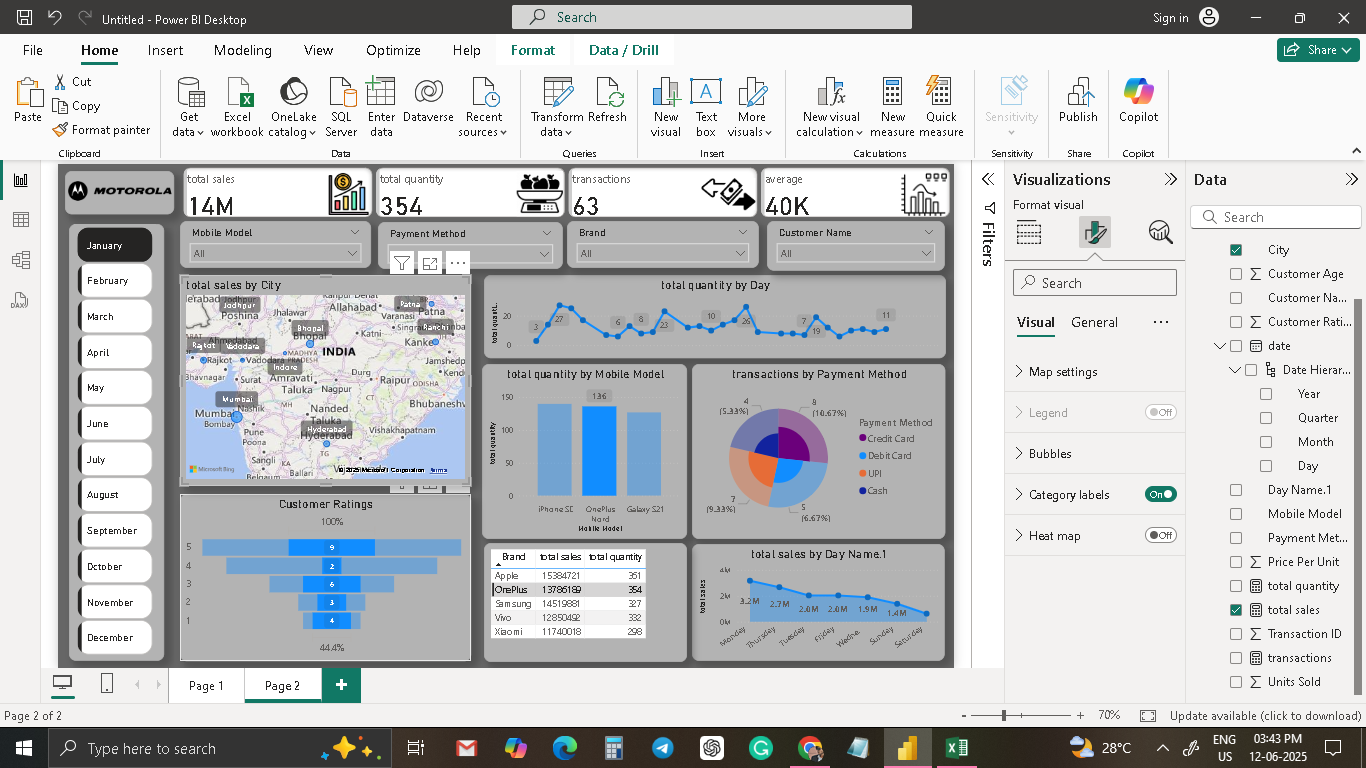

The page's visual inventory and layout, read from the dashboard file:
{"tool":"powerbi","page":{"name":"Page 2","canvas":[1280,720],"ordinal":0},"visuals":[{"type":"shape","box":[10,10,155.9,62.4],"z":0},{"type":"image","box":[2.4,10,171.2,57.1],"z":1000},{"type":"shape","box":[15.7,85.7,135.7,624.3],"z":2000},{"type":"advancedSlicerVisual","fields":{"Values":["sales data.date.Variation.Date Hierarchy.Month"]},"box":[22.9,85.7,117.1,620],"z":3000},{"type":"cardVisual","fields":{"Data":["sales data.total sales","sales data.total quantity","sales data.transaction","sales data.average"]},"box":[172.9,9.9,1106.9,137.5],"z":4000},{"type":"map","fields":{"Category":["sales data.City"],"Size":["sales data.total sales"]},"box":[174.3,158.6,415.7,301.4],"z":5000},{"type":"lineChart","fields":{"Y":["sales data.total quantity"],"Category":["sales data.date.Variation.Date Hierarchy.Month","sales data.date.Variation.Date Hierarchy.Day"]},"box":[608.6,158.6,660,118.6],"z":6000},{"type":"clusteredColumnChart","fields":{"Category":["sales data.Mobile Model"],"Y":["sales data.total quantity"]},"box":[606,285,293,250],"z":7000},{"type":"pieChart","fields":{"Category":["sales data.Payment Method"],"Y":["sales data.transactions"]},"box":[906,285,362,250],"z":8000},{"type":"funnel","title":"Customer Ratings","fields":{"Category":["sales data.Customer Ratings"],"Y":["sales data.Customer Ratings"]},"box":[174.3,471.4,415.7,238.6],"z":9000},{"type":"stackedAreaChart","fields":{"Category":["sales data.Day Name.1"],"Y":["sales data.total sales"]},"box":[905.7,542.9,361.4,167.1],"z":10000},{"type":"tableEx","fields":{"Values":["sales data.Brand","sales data.total sales","sales data.total quantity"]},"box":[608.6,541.4,290,170],"z":15000}]}

Visuals, with their boxes on the page's 1280x720 design canvas (x1, y1, x2, y2). These are canvas units, not pixel positions in the 1366x768 screenshot, which may show the page scaled, cropped or inside an application window:
shape: x1=10 y1=10 x2=166 y2=72
image: x1=2 y1=10 x2=174 y2=67
shape: x1=16 y1=86 x2=151 y2=710
advancedSlicerVisual - sales data.date.Variation.Date Hierarchy.Month: x1=23 y1=86 x2=140 y2=706
cardVisual - sales data.total sales x sales data.total quantity: x1=173 y1=10 x2=1280 y2=147
map - sales data.City x sales data.total sales: x1=174 y1=159 x2=590 y2=460
lineChart - sales data.total quantity x sales data.date.Variation.Date Hierarchy.Month: x1=609 y1=159 x2=1269 y2=277
clusteredColumnChart - sales data.Mobile Model x sales data.total quantity: x1=606 y1=285 x2=899 y2=535
pieChart - sales data.Payment Method x sales data.transactions: x1=906 y1=285 x2=1268 y2=535
"Customer Ratings" funnel: x1=174 y1=471 x2=590 y2=710
stackedAreaChart - sales data.Day Name.1 x sales data.total sales: x1=906 y1=543 x2=1267 y2=710
tableEx - sales data.Brand x sales data.total sales: x1=609 y1=541 x2=899 y2=711
